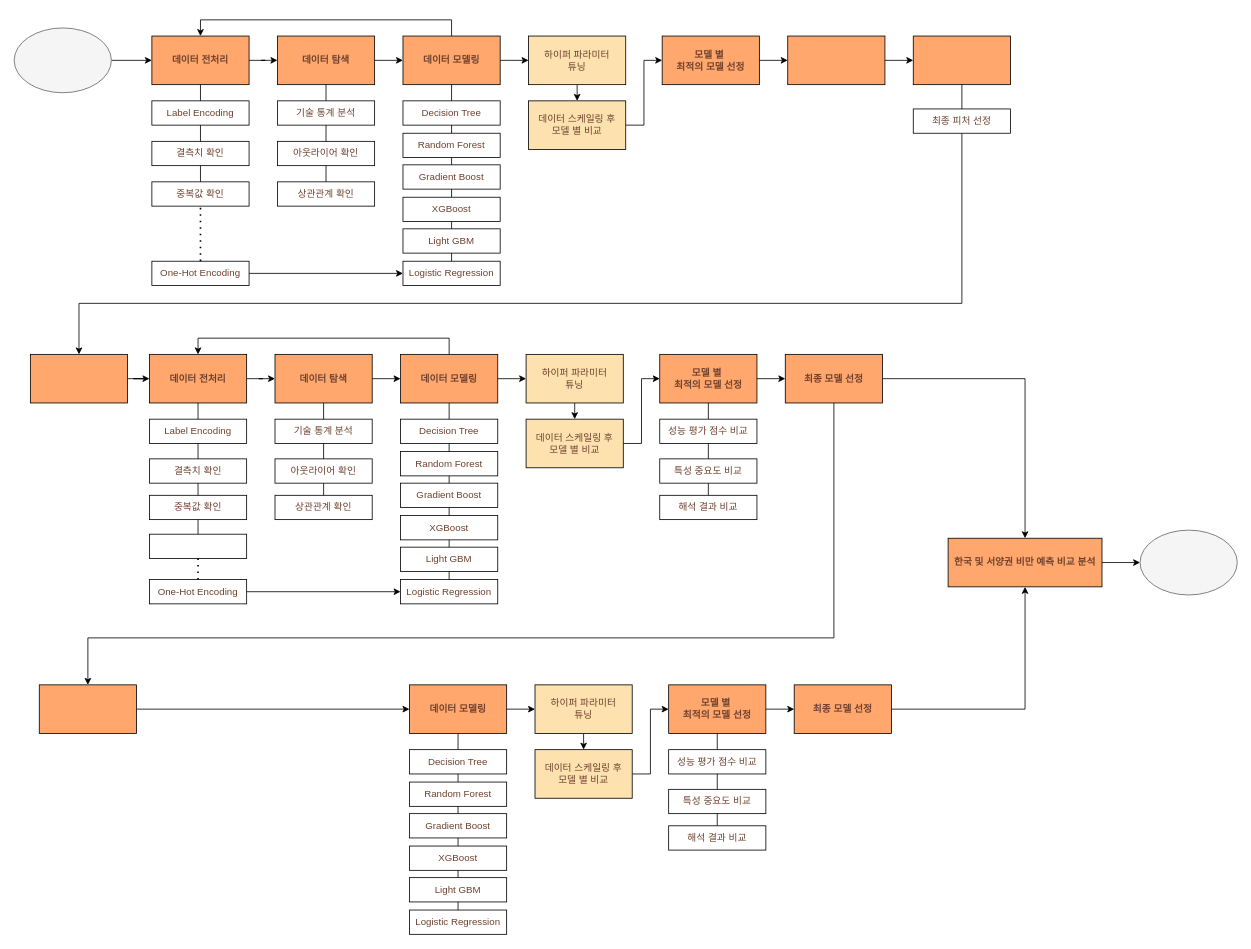
Some shapes in this 1251 by 949 pixel diagram are drawn without their labels. The box of each missing label's shape, as (x1, y1, x2, y2) in pixels:
END: (1139, 529, 1237, 595)
START: (13, 27, 111, 93)
공통 스케일링 적용: (149, 533, 247, 558)
모델 별 특성 중요도 비교: (787, 35, 885, 85)
분석 결과 도출: (912, 35, 1010, 85)
캐글과 매칭되는 피처 선정: (30, 354, 128, 403)
한국과 비교위해 동일한 피처 선정: (38, 684, 136, 733)
